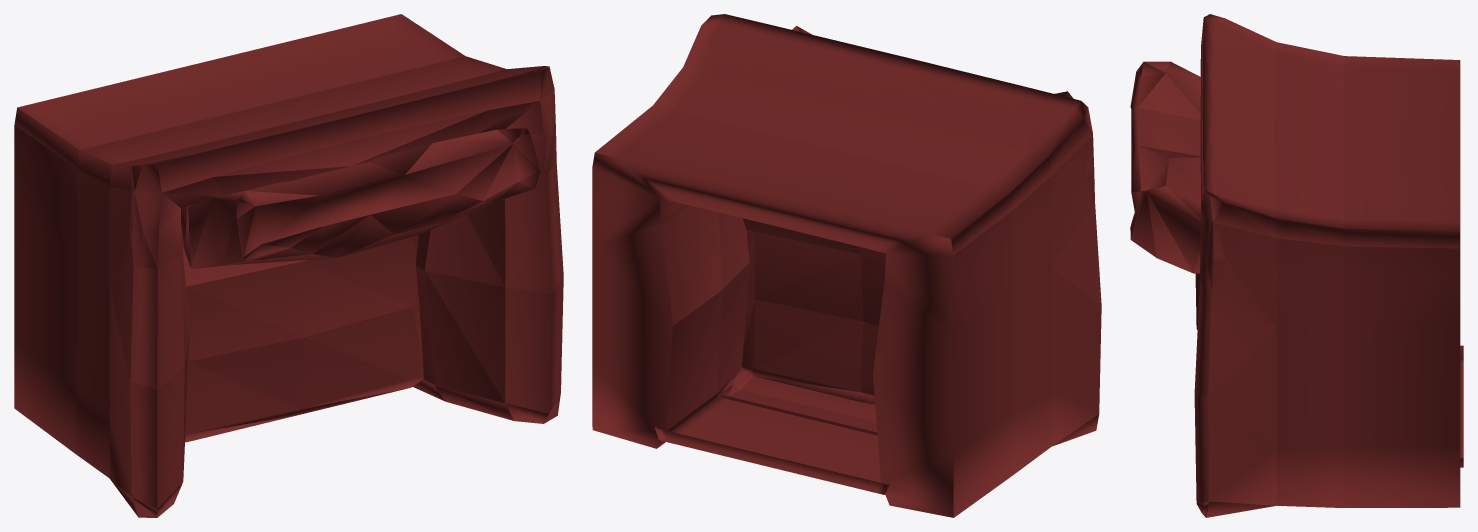
The model's file is ArmchairmeshArmchair_205_1_0.obj.
3 renders of one model, left to right at view 1: azimuth 30°, elevation 25°; view 2: azimuth 150°, elevation 25°; view 3: azimuth 270°, elevation 25°, orthographic. The views are drawn at different scales.
Visible parts, largest first — view 1: Armchair_205_1; view 2: Armchair_205_1; view 3: Armchair_205_1.
Part boxes in pixels (bbox=[...]): Armchair_205_1: bbox=[14, 14, 563, 517]; Armchair_205_1: bbox=[592, 14, 1101, 517]; Armchair_205_1: bbox=[1130, 14, 1463, 517].
Size of the model in its own units: 1.14 by 0.8896 by 0.8296.
